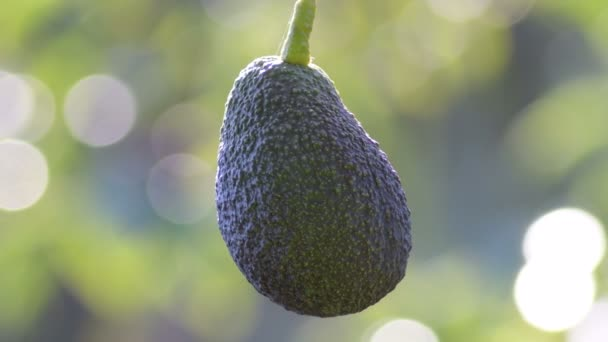fit_avocado: (166, 51, 429, 321)
